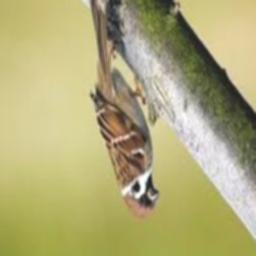Sparrow: (90, 0, 159, 217)
